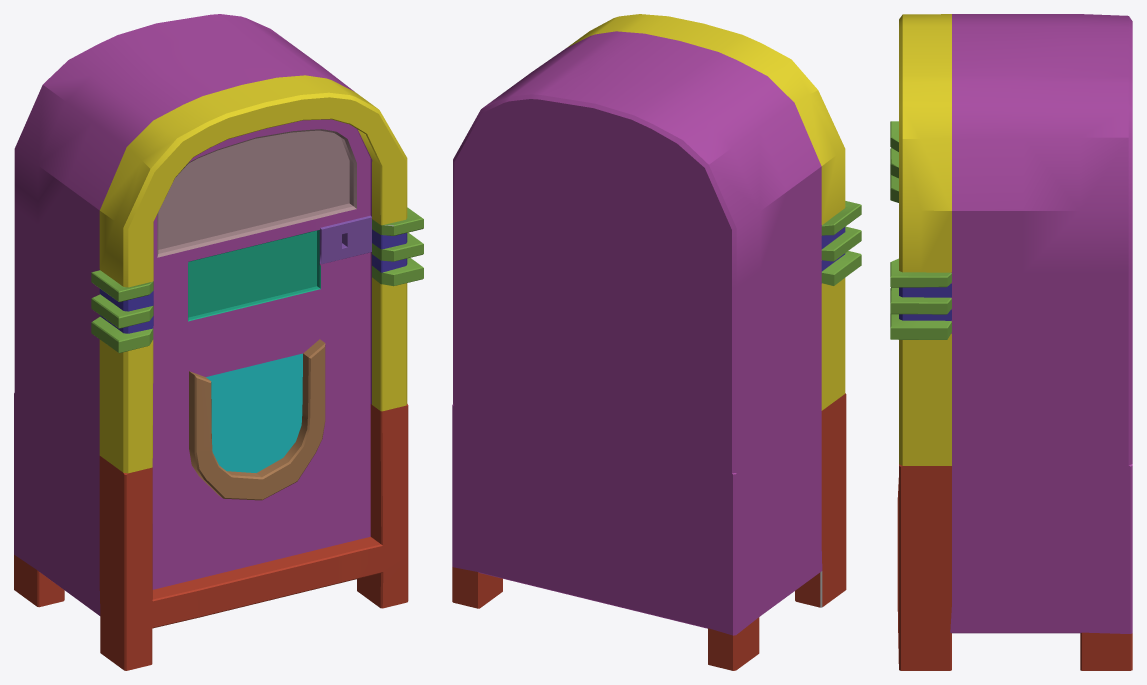
The model's file is Jukebox_untextured.fbx.
The picture shows the model from 3 angles, left to right: view 1: azimuth 30°, elevation 25°; view 2: azimuth 150°, elevation 25°; view 3: azimuth 270°, elevation 25°; orthographic projection. The views are drawn at different scales.
Visible parts, largest first — view 1: Jukebox; view 2: Jukebox; view 3: Jukebox.
Boxes of the visible parts, x1,y1,x2,y2 form: Jukebox: (14, 14, 423, 670); Jukebox: (452, 14, 861, 670); Jukebox: (890, 14, 1132, 670).
Size of the model in its own units: 83.31 by 139 by 55.01.
